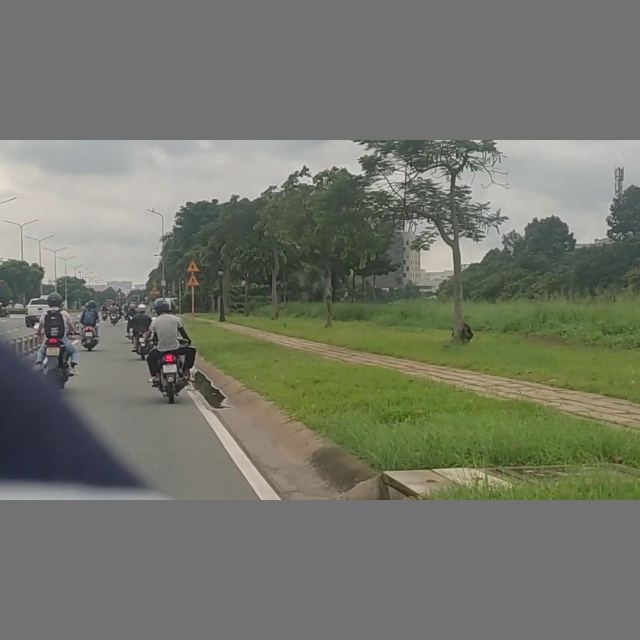W.207: (185, 260, 201, 272)
W.224: (185, 275, 201, 286)
